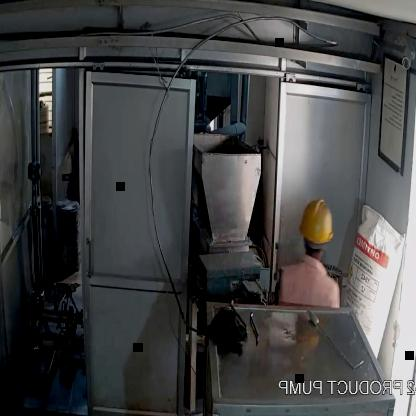helmet: (298, 192, 338, 253)
